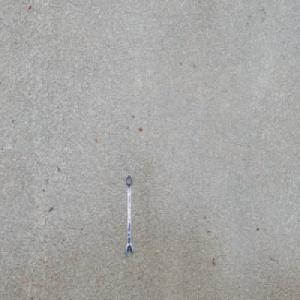Wrench: (125, 172, 133, 259)
